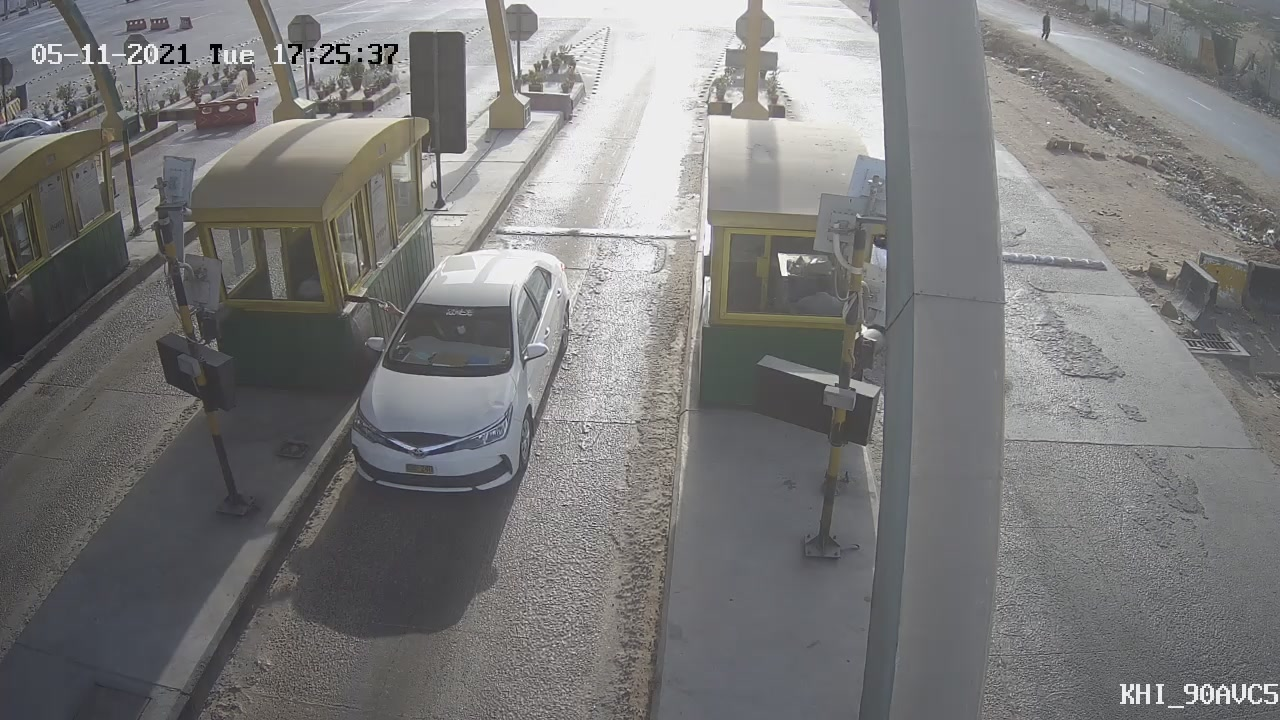F1: (326, 235, 592, 514)
